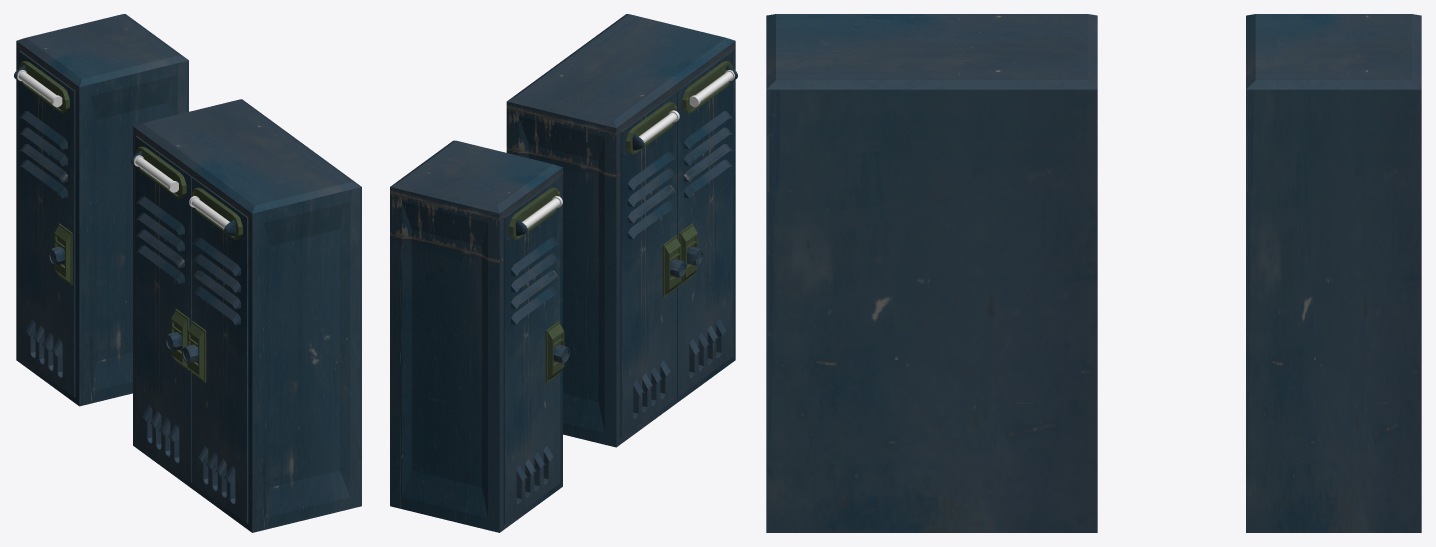
The model's file is casier 3.fbx.
3 views of the same model, side by side, from view 1: azimuth 30°, elevation 25°; view 2: azimuth 150°, elevation 25°; view 3: azimuth 270°, elevation 25° (orthographic). The views are drawn at different scales.
Parts seen in each view (by area): view 1: Cylinder.004, Cylinder.002, Cylinder.005, Cylinder.001, Cylinder.003; view 2: Cylinder.002, Cylinder.004, Cylinder.001, Cylinder.003, Cylinder.005; view 3: Cylinder.004, Cylinder.002.
Part boxes in pixels (x1,y1,x2,y2): Cylinder.004: [133, 99, 361, 532]; Cylinder.002: [16, 14, 188, 406]; Cylinder.005: [182, 177, 248, 523]; Cylinder.001: [14, 50, 75, 396]; Cylinder.003: [131, 136, 192, 482]; Cylinder.002: [390, 140, 562, 532]; Cylinder.004: [506, 14, 735, 447]; Cylinder.001: [503, 177, 569, 523]; Cylinder.003: [620, 91, 686, 437]; Cylinder.005: [676, 50, 737, 396]; Cylinder.004: [766, 14, 1097, 532]; Cylinder.002: [1246, 14, 1421, 532].
Bounding box in the file's own units: 90.58 × 225 × 297.
